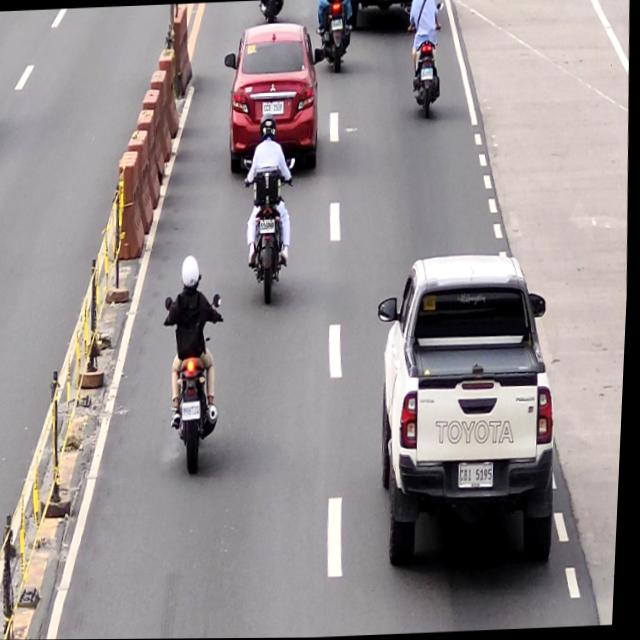Car: (367, 252, 571, 575), (219, 19, 330, 181)
License-Plate: (461, 463, 498, 490), (184, 402, 204, 420), (262, 101, 284, 115), (261, 218, 278, 234), (420, 69, 434, 81), (330, 18, 344, 30)
Motorcycle: (161, 292, 232, 477), (239, 153, 302, 305), (402, 0, 452, 120), (314, 0, 356, 69)
